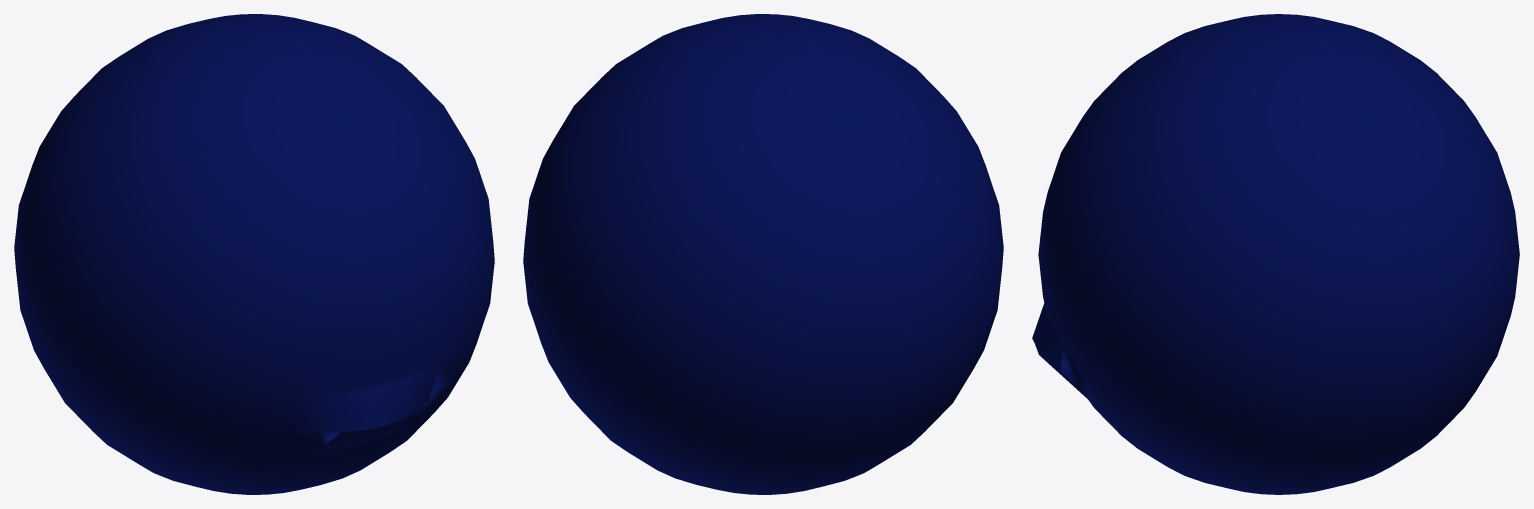
Rendered from ouauh.fbx.
The picture shows the model from 3 angles, left to right: view 1: azimuth 30°, elevation 25°; view 2: azimuth 150°, elevation 25°; view 3: azimuth 270°, elevation 25°; orthographic projection.
Parts seen in each view (by area): view 1: Sphere002; view 2: Sphere002; view 3: Sphere002.
Boxes of the visible parts, x1,y1,x2,y2 form: Sphere002: [14, 14, 494, 494]; Sphere002: [523, 14, 1003, 494]; Sphere002: [1032, 14, 1519, 494].
Bounding box in the file's own units: 37.95 × 37.95 × 38.45.
